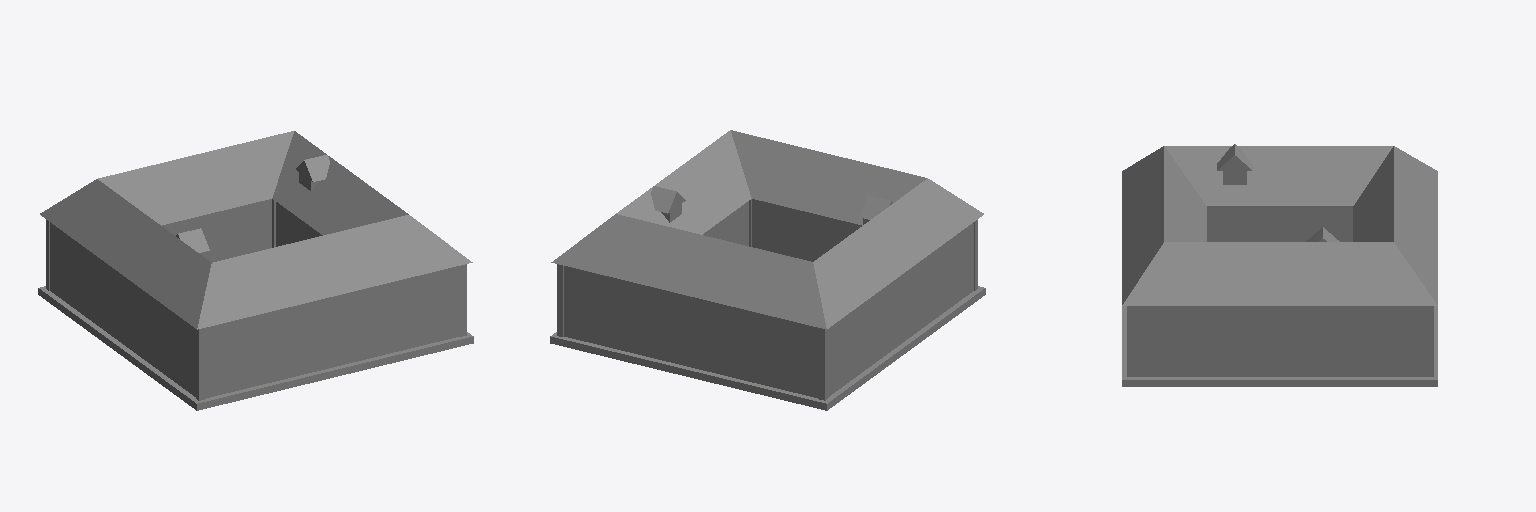
Rendered from Hous_4_Cut.obj.
3 views of the same model, side by side, from view 1: azimuth 30°, elevation 25°; view 2: azimuth 150°, elevation 25°; view 3: azimuth 270°, elevation 25° (orthographic).
Parts seen in each view (by area): view 1: House4_R, House4_T; view 2: House4_R, House4_T; view 3: House4_R, House4_T.
Boxes of the visible parts, box(x1,y1,x2,y2) form: House4_R: box(40, 131, 472, 329); House4_T: box(38, 199, 473, 410); House4_R: box(551, 130, 983, 329); House4_T: box(550, 199, 985, 410); House4_R: box(1122, 144, 1437, 305); House4_T: box(1122, 206, 1437, 386).
Bounding box in the file's own units: 10.16 × 4.44 × 10.08.